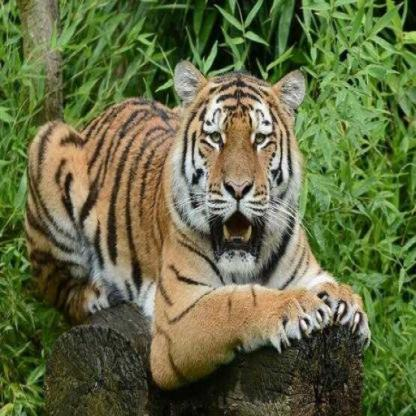Tiger: (4, 59, 370, 388)
